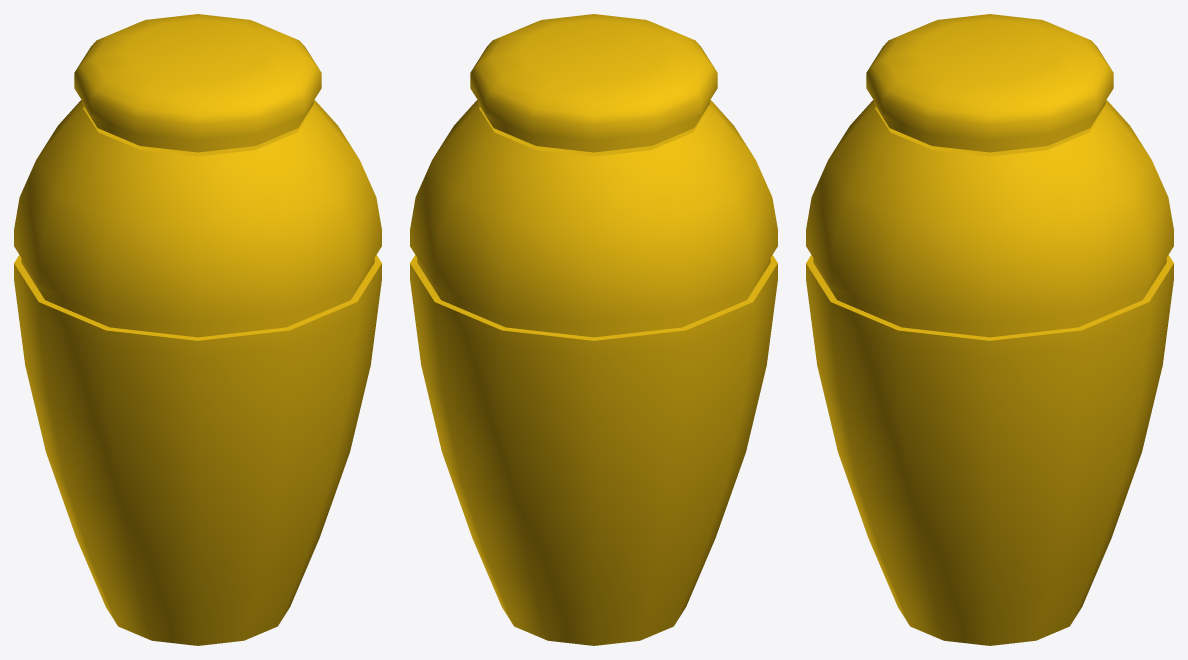
3 renders of one model, left to right at view 1: azimuth 30°, elevation 25°; view 2: azimuth 150°, elevation 25°; view 3: azimuth 270°, elevation 25°, orthographic.
Parts seen in each view (by area): view 1: GoldenUrn; view 2: GoldenUrn; view 3: GoldenUrn.
Boxes of the visible parts, x1,y1,x2,y2 form: GoldenUrn: (14, 14, 381, 645); GoldenUrn: (410, 14, 777, 645); GoldenUrn: (806, 14, 1173, 645).
Size of what is drawn, in the model's own units: 0.2422 by 0.4034 by 0.2422.
1 material, 1 textured.
